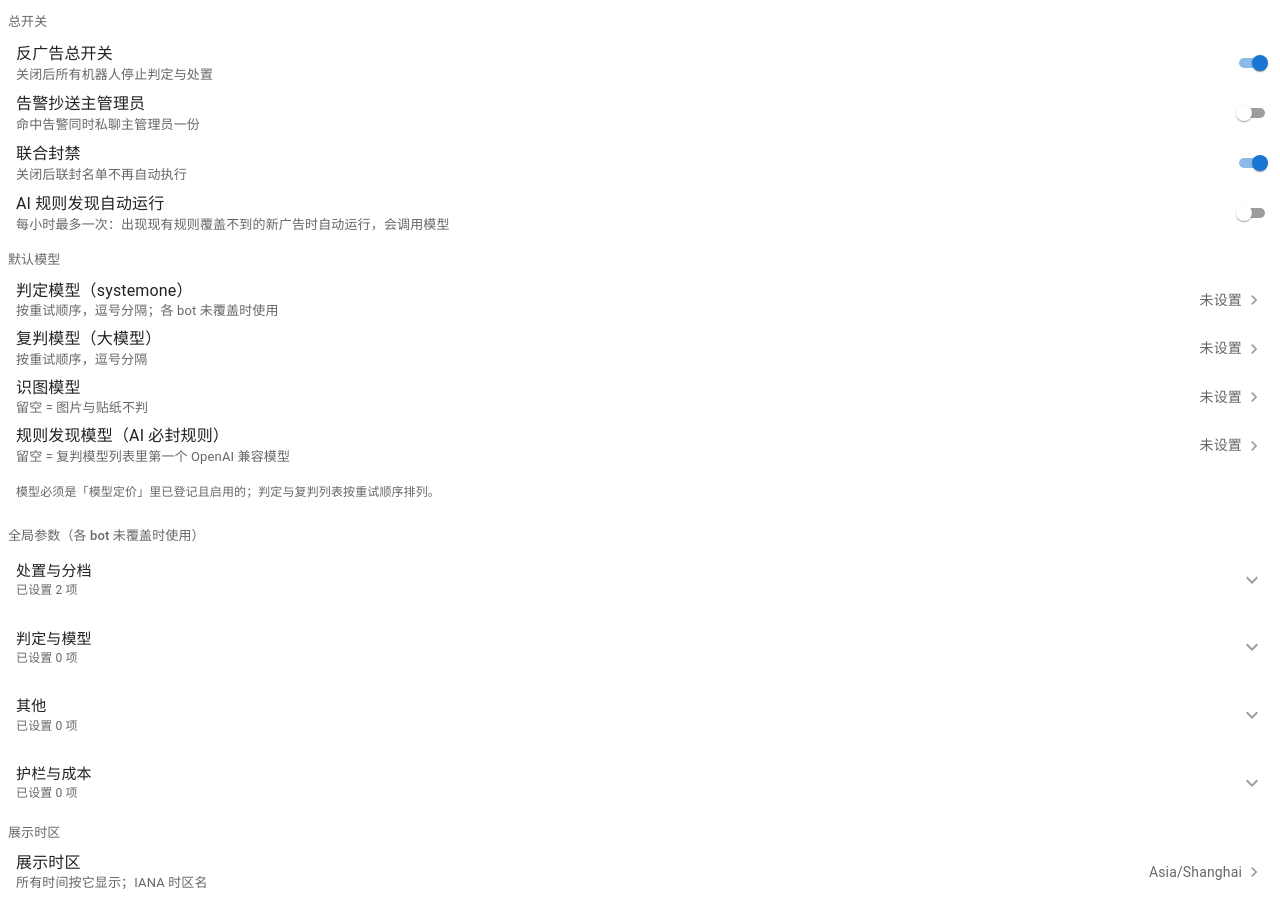
SettingsPage 主题折叠卡（智能控件） › 「已设置 N 项」只数显式写过的键（global 里的默认值不算）
Expected: the heading "总开关" is shown, left=8, top=14, right=47, bottom=29
Expected: the text "已设置 2 项" is shown, left=16, top=584, right=78, bottom=598
Click the button "判定与模型 已设置 0 项" at point(54, 639), box left=0, top=620, right=1279, bottom=675
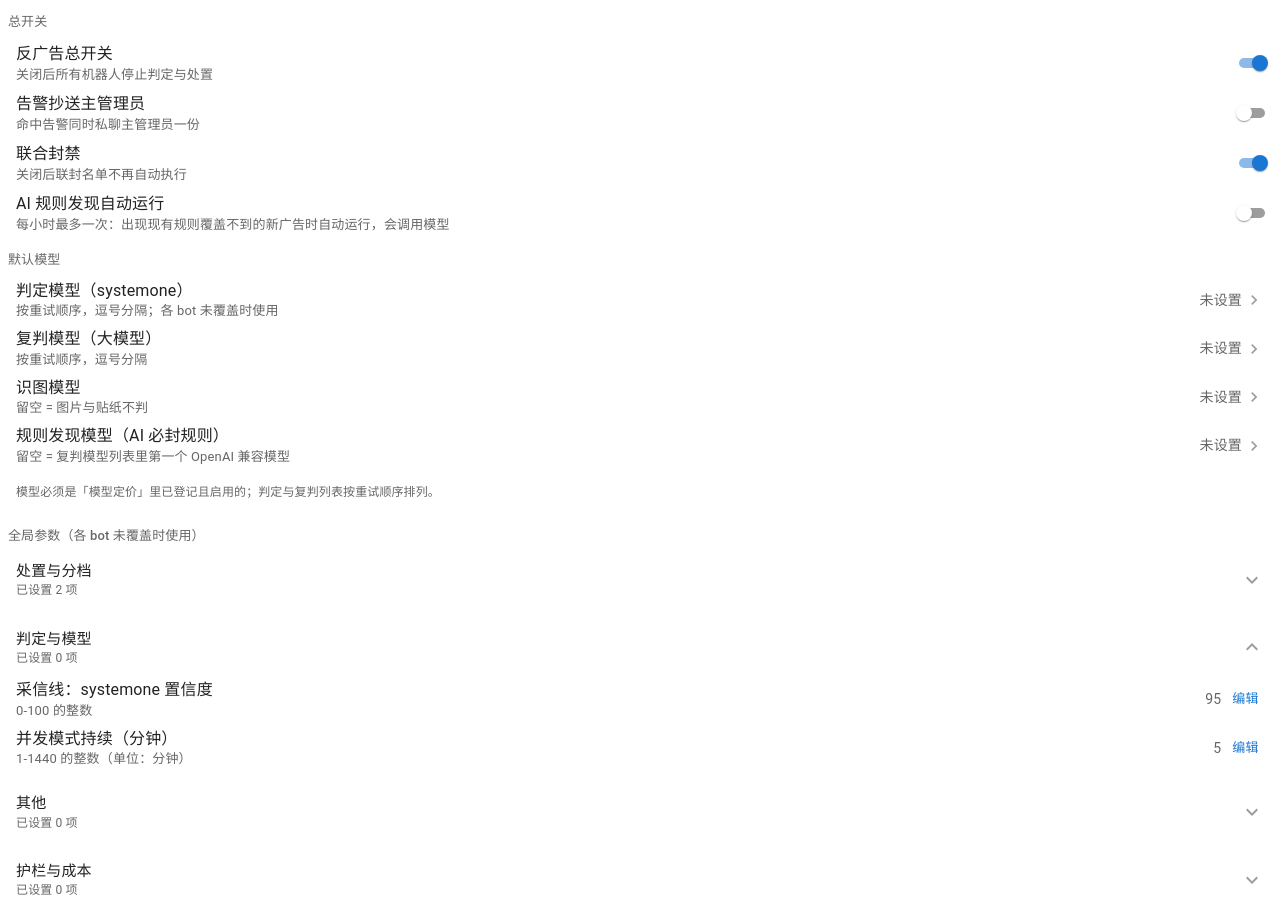
Expected: the text "采信线：systemone 置信度" is shown, left=16, top=680, right=213, bottom=699
Expected: the text "并发模式持续（分钟）" is shown, left=16, top=729, right=178, bottom=748
